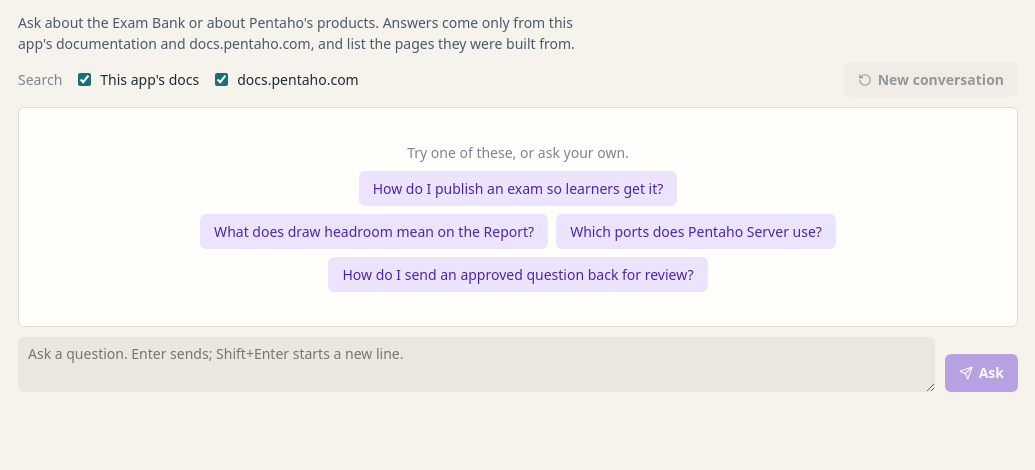
Scenario: an answer › renders markdown with its citations as buttons
In the text box named "Your question": point(476, 364) [18, 337, 935, 392], type "How do I publish an exam?"
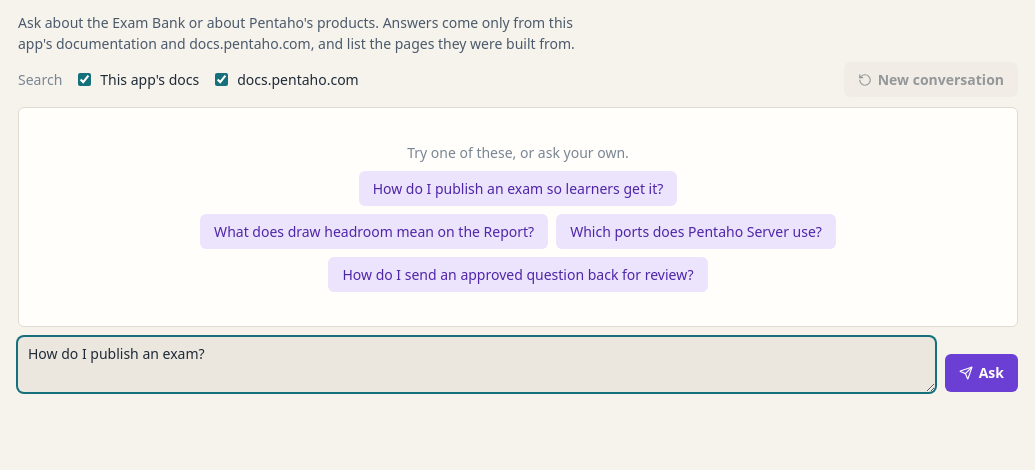
Click the button "Ask": point(981, 373) [945, 354, 1018, 392]
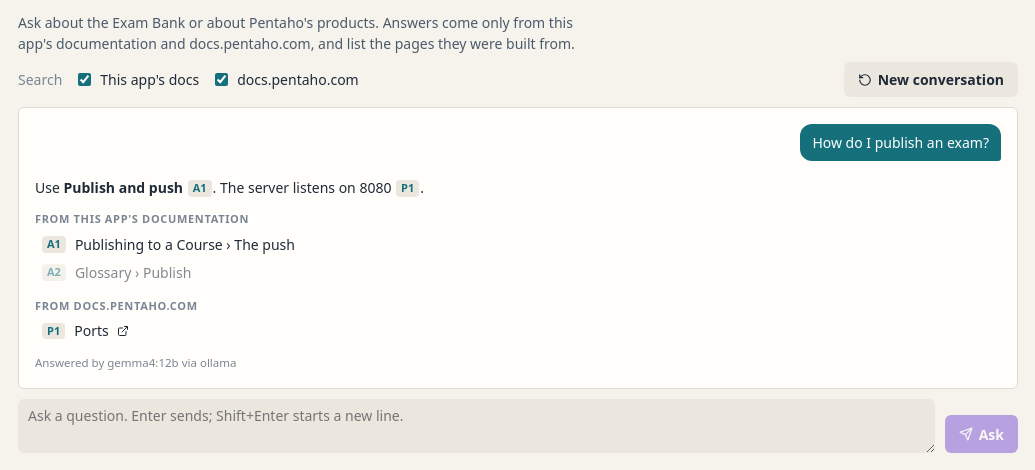
Expected: the text "Publish and push" is shown, [64, 178, 183, 197]
Expected: the button "A1" is shown, [188, 180, 212, 196]
Expected: the button "P1" is shown, [396, 180, 419, 196]
